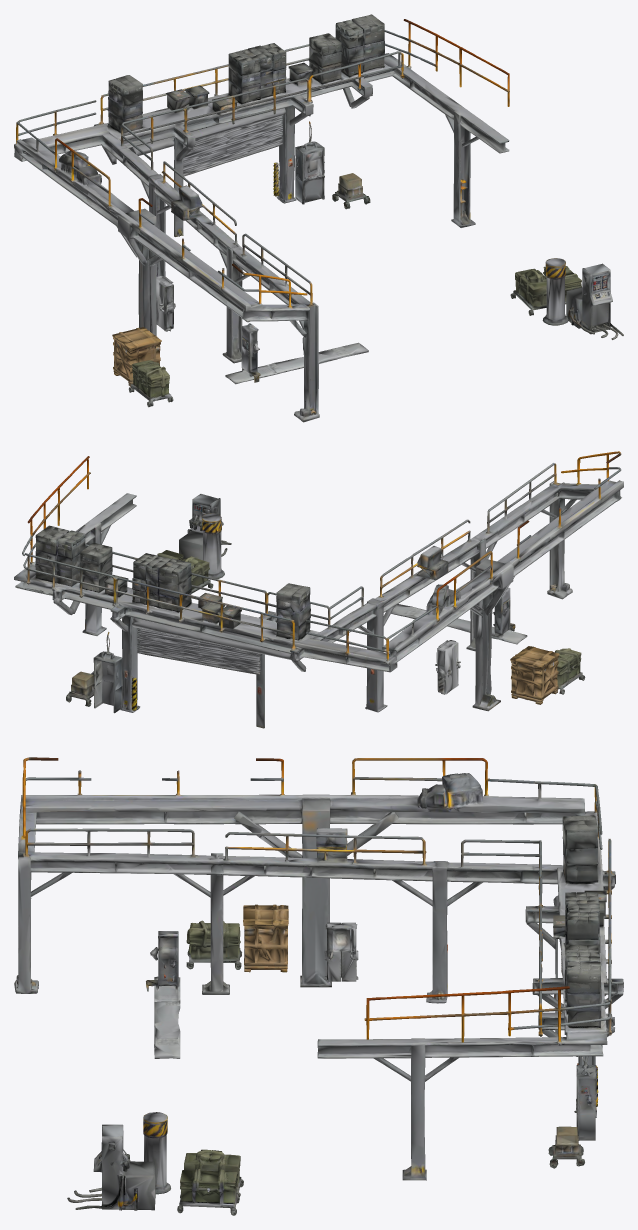
Rendered from warehouse.glb.
3 renders of one model, top to bottom at view 1: azimuth 30°, elevation 25°; view 2: azimuth 150°, elevation 25°; view 3: azimuth 270°, elevation 25°, orthographic. The views are drawn at different scales.
Parts seen in each view (by area): view 1: tripo_node_9d7a5378-0ac1-45f6-9266-87e413350c84; view 2: tripo_node_9d7a5378-0ac1-45f6-9266-87e413350c84; view 3: tripo_node_9d7a5378-0ac1-45f6-9266-87e413350c84.
Boxes of the visible parts, <box> form: tripo_node_9d7a5378-0ac1-45f6-9266-87e413350c84: <box>14,14,623,422</box>; tripo_node_9d7a5378-0ac1-45f6-9266-87e413350c84: <box>14,451,623,728</box>; tripo_node_9d7a5378-0ac1-45f6-9266-87e413350c84: <box>14,757,623,1215</box>.
Size of the model in its own units: 0.9814 by 0.3803 by 0.9725.
1 material, 1 textured.
